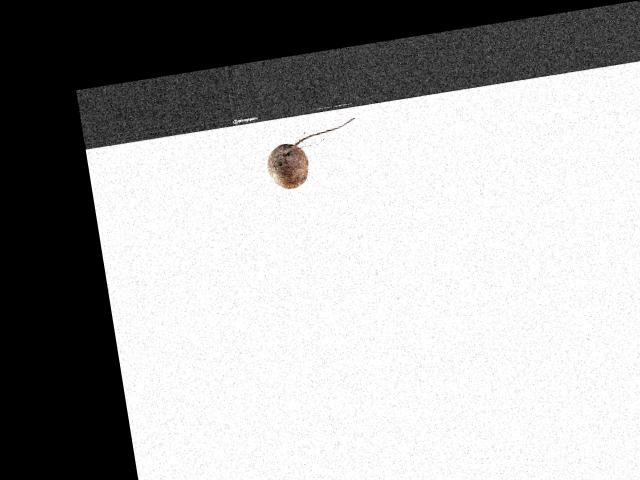beet: (262, 117, 364, 191)
